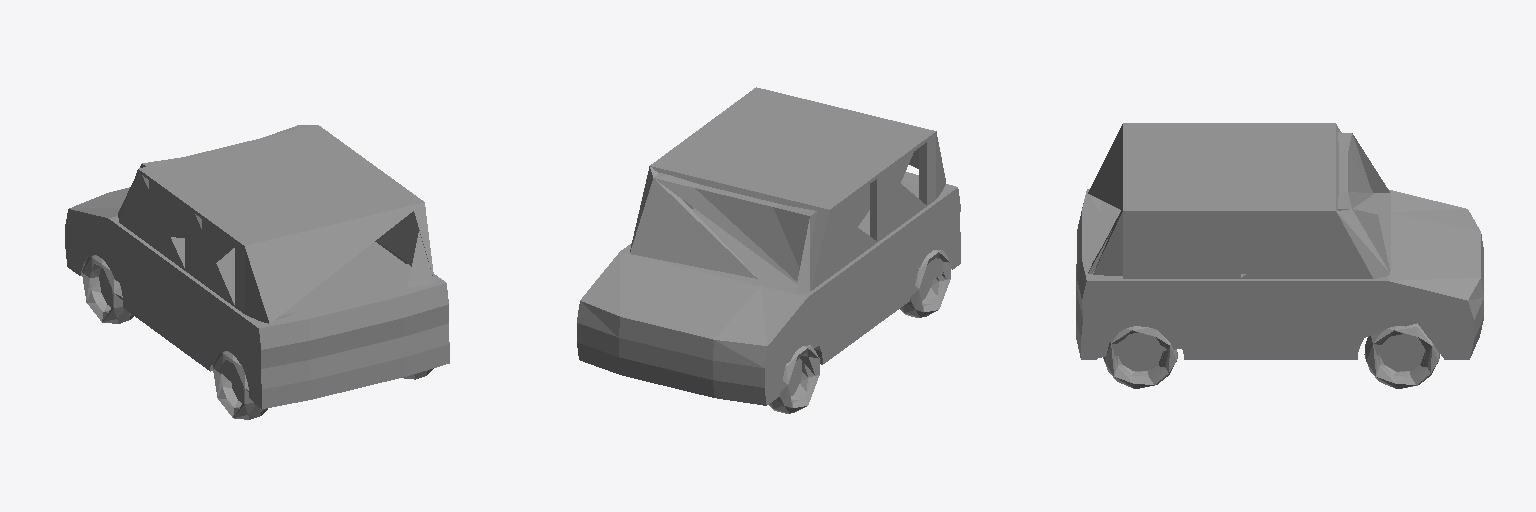
Rendered from SimpleCar.obj.
The picture shows the model from 3 angles: view 1: azimuth 30°, elevation 25°; view 2: azimuth 150°, elevation 25°; view 3: azimuth 270°, elevation 25°; orthographic projection.
Parts seen in each view (by area): view 1: Tetto_Cube.002, Carrozzeria_Cube, Ruota.002_Circle.002; view 2: Tetto_Cube.002, Carrozzeria_Cube, Ruota.002_Circle.002; view 3: Tetto_Cube.002, Carrozzeria_Cube, Ruota.002_Circle.002.
Boxes of the visible parts, x1,y1,x2,y2 form: Tetto_Cube.002: [118, 125, 434, 323]; Carrozzeria_Cube: [65, 187, 449, 408]; Ruota.002_Circle.002: [82, 255, 433, 419]; Tetto_Cube.002: [630, 87, 945, 293]; Carrozzeria_Cube: [577, 172, 960, 405]; Ruota.002_Circle.002: [769, 250, 950, 413]; Tetto_Cube.002: [1088, 123, 1390, 278]; Carrozzeria_Cube: [1076, 189, 1483, 359]; Ruota.002_Circle.002: [1103, 323, 1439, 388].
Size of the model in its own units: 0.5176 by 0.4543 by 0.9421.